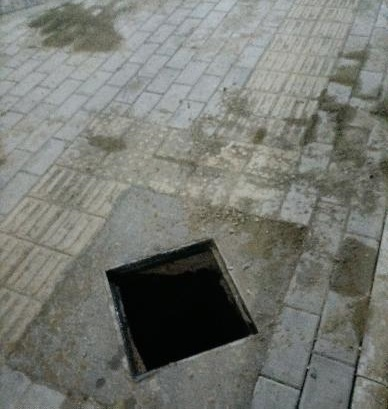well: (99, 234, 264, 383)
